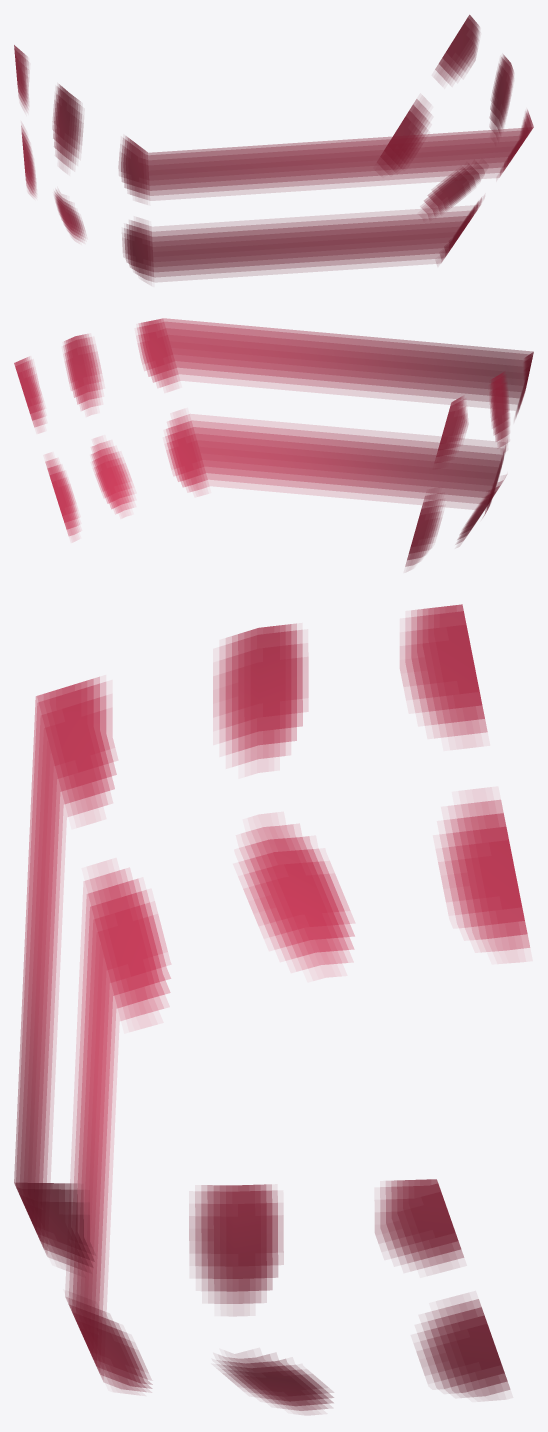
3 renders of one model, top to bottom at view 1: azimuth 30°, elevation 25°; view 2: azimuth 150°, elevation 25°; view 3: azimuth 270°, elevation 25°, orthographic. The views are drawn at different scales.
Parts seen in each view (by area): view 1: ef_443; view 2: ef_443; view 3: ef_443.
Part boxes in pixels (bbox=[...]): ef_443: bbox=[14, 15, 533, 282]; ef_443: bbox=[14, 318, 533, 570]; ef_443: bbox=[14, 604, 529, 1414].
Bounding box in the file's own units: 0.684 × 0.3473 × 0.3467.
Materials: 1 (1 with a texture image).
